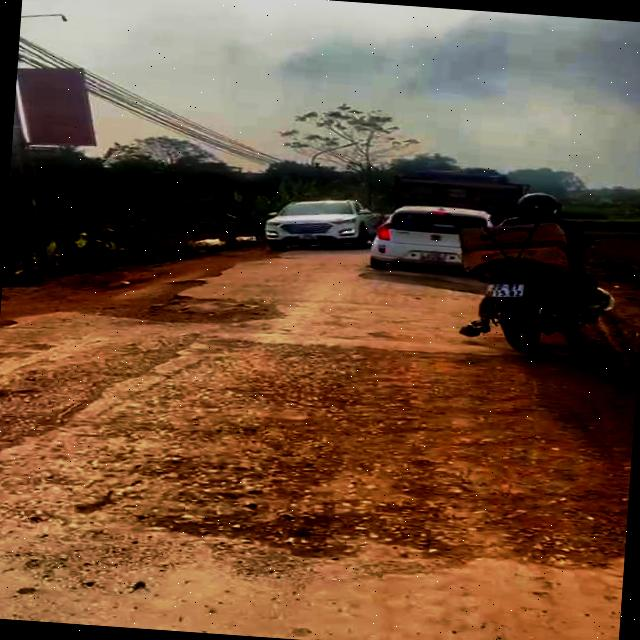pothole: (150, 482, 447, 568), (68, 266, 294, 335)
